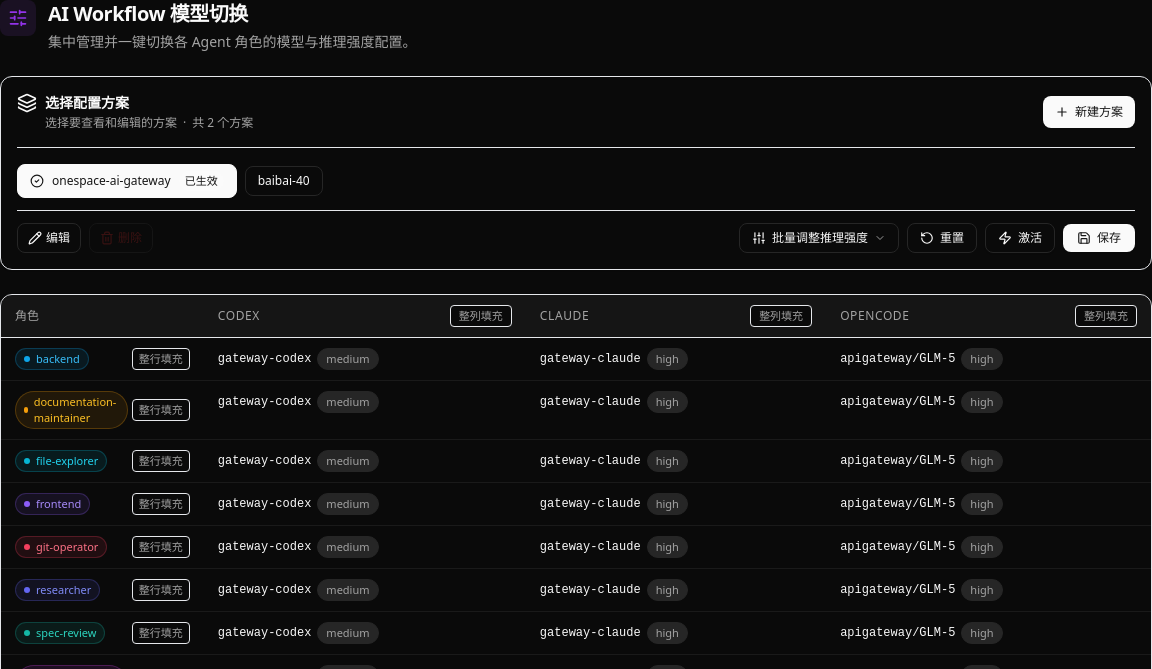
Scenario: AiWorkflowModelSwitcher 行为测试 › AC-005: 单元格编辑、批量操作与 dirty 状态管理 › 编辑单元格后显示 dirty 状态，重载后清除 dirty
Click the cell with test id "cell-backend-opencode". click: (989,359)
box: [826,338,1151,380]
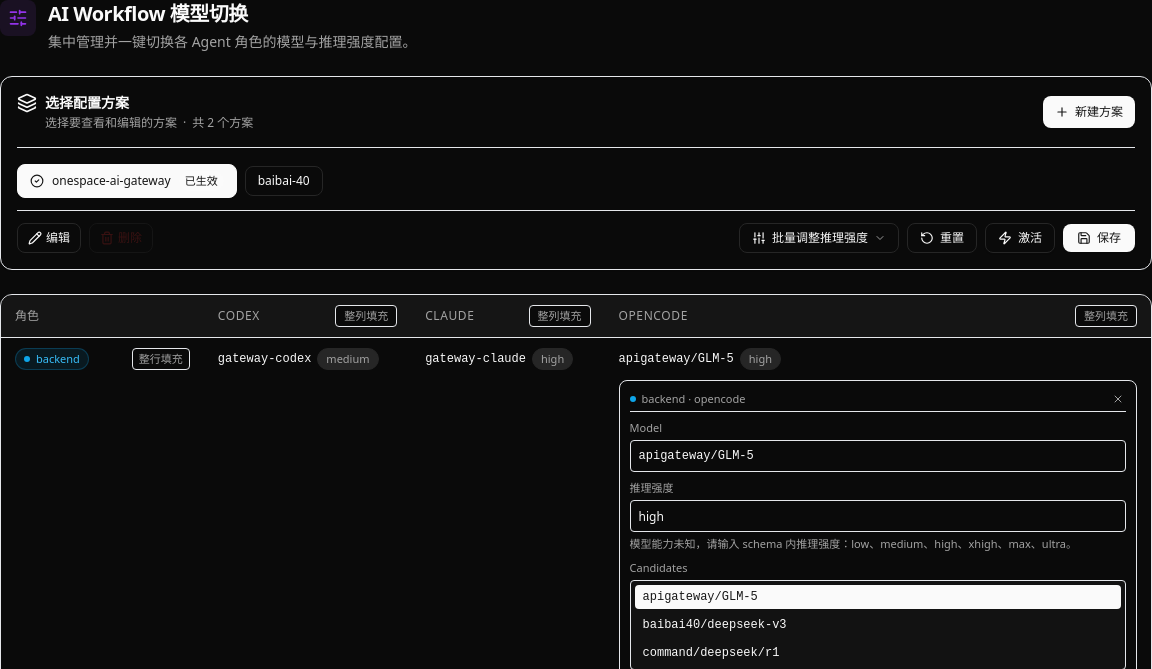
Replace the text in the field with test id "manual-model-input-backend-opencode" with "edited-model". click: (878,456)
box: [630,440,1126,472]
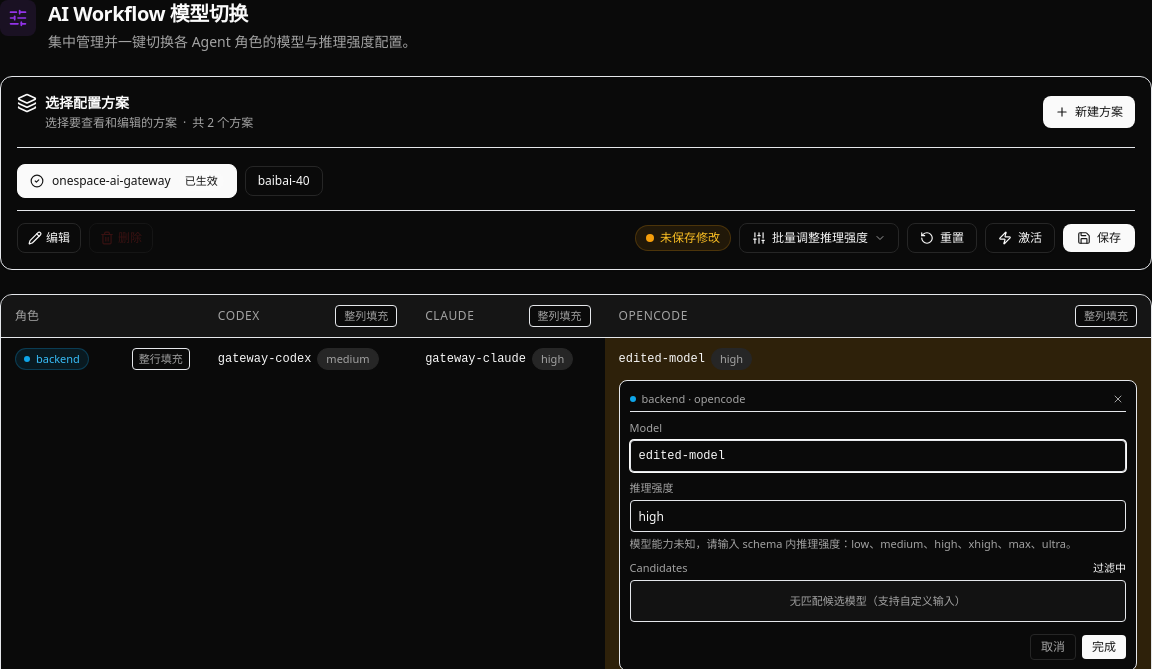
Expected: the element with test id "matrix-dirty-indicator" is shown, [635,225,731,251]
Note: 点击重置/重载按钮
Click the button "重置". click: (942,238)
box: [907,223,977,253]
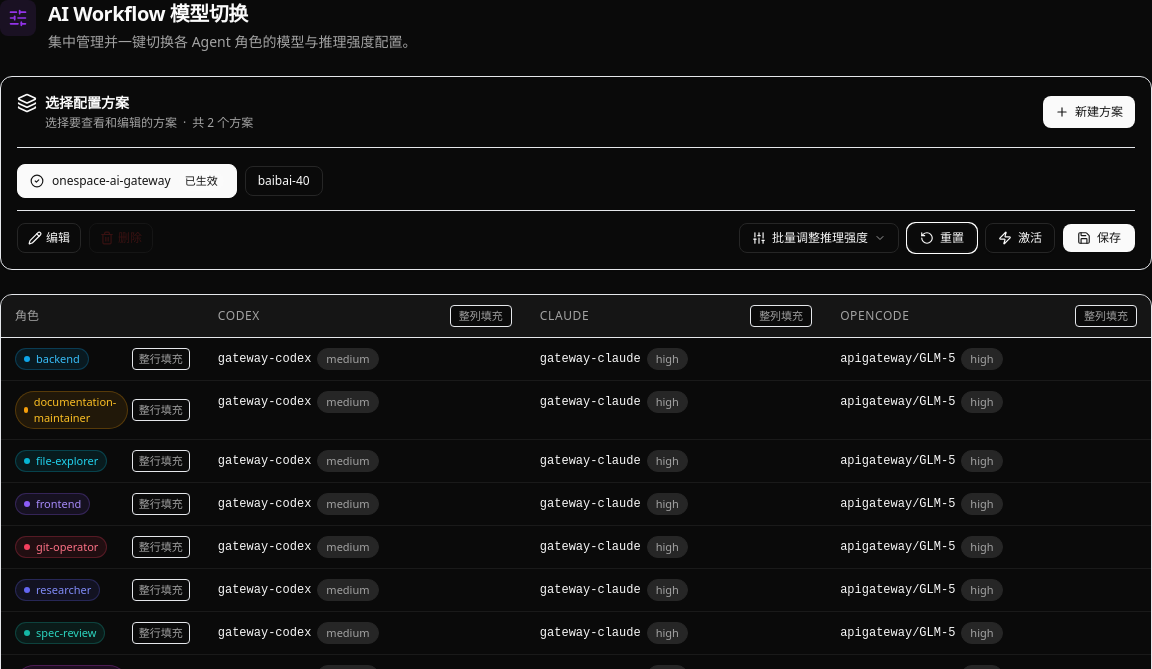
Expected: the element with test id "matrix-dirty-indicator" is gone
Expected: the cell with test id "cell-backend-opencode" shows "apigateway/GLM-5", [840,352,955,366]
